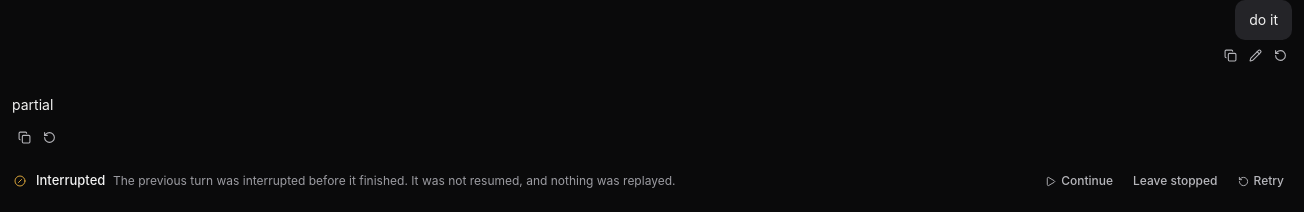
Test case: AgentTimeline › shows a Harness interruption and leaving it stopped sends nothing
The width and height of the screenshot is (1304, 212).
Expected: the element "Interrupted" shows "was not resumed", 113,173 -> 676,188
Step 1. Click the button "Leave stopped" → (1175,181), box 1125,167 -> 1226,195
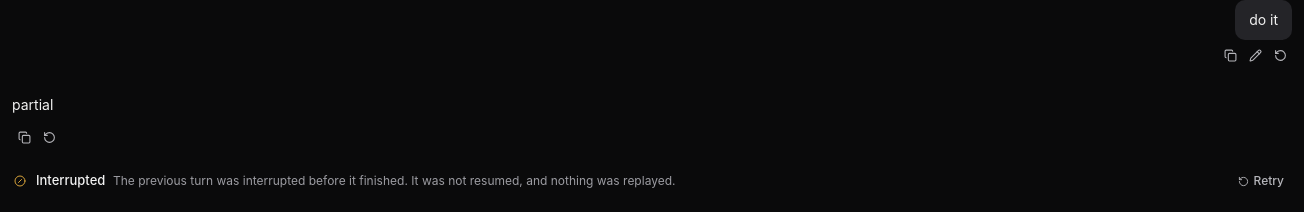
Expected: the button "Retry" is shown, 1230,167 -> 1292,195
Result: the button "Continue" is gone
Result: the button "Leave stopped" is gone
